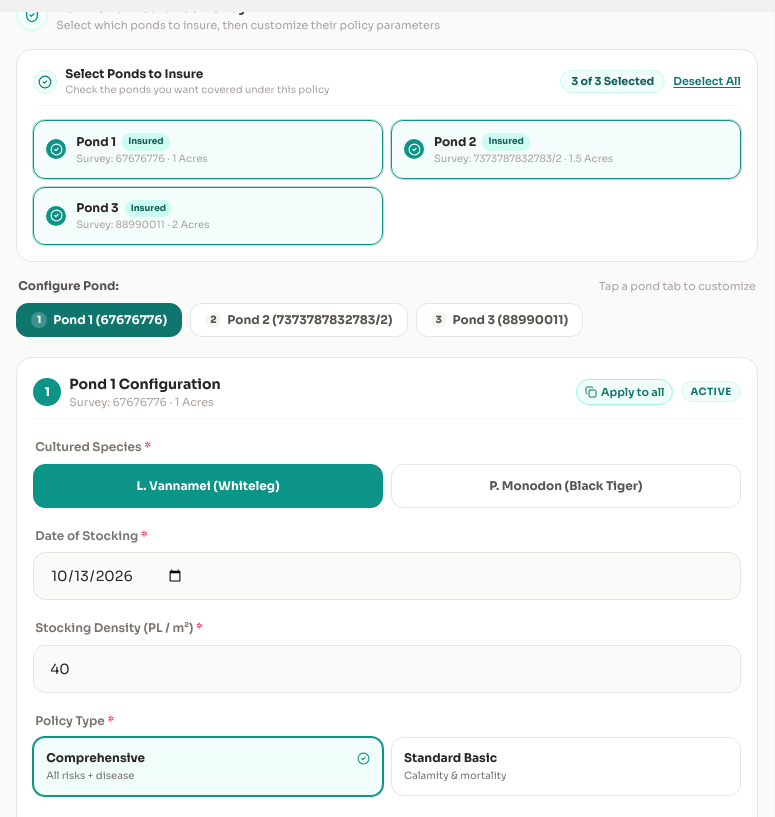
Test case: InsuranceRegistration component with Pond Selection Box › toggles pond selection and updates configuration tabs dynamically
The width and height of the screenshot is (775, 817).
Check: the text "3 of 3 Selected" is shown, box [560,70,665,93]
Check: the text "Pond 2" is shown, box [434,134,476,149]
Click the text "Pond 2". click: coordinates (566, 149)
box: [391,120,741,178]
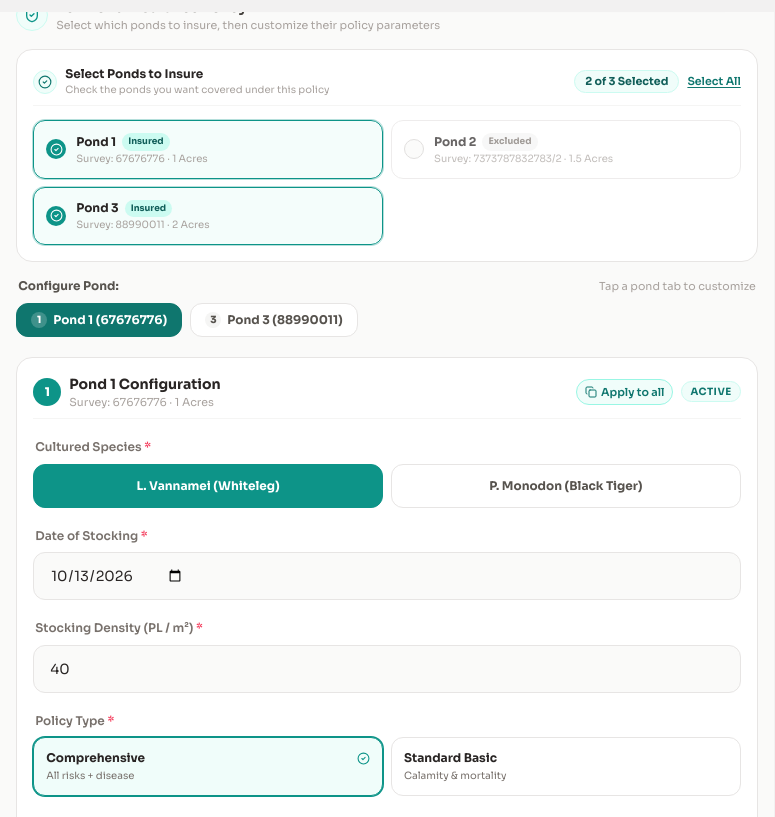
Check: the text "2 of 3 Selected" is shown, box [574,70,679,93]
Check: the text "Excluded" is shown, box [482,133,538,150]
